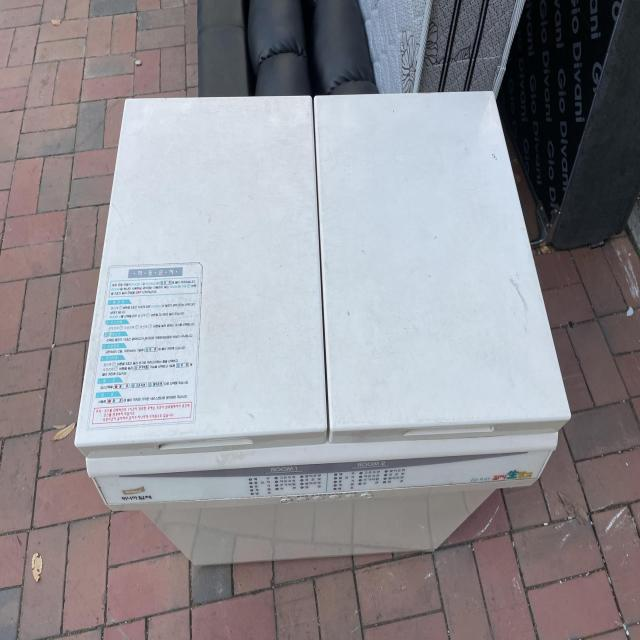refrigerator: (71, 84, 574, 576)
